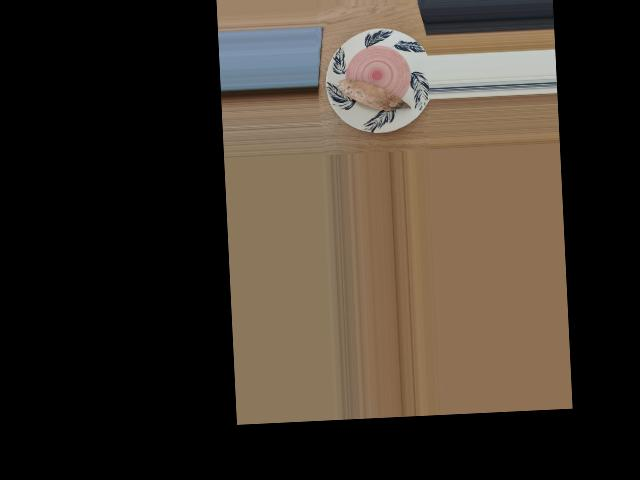sweet_potato: (342, 74, 403, 113)
